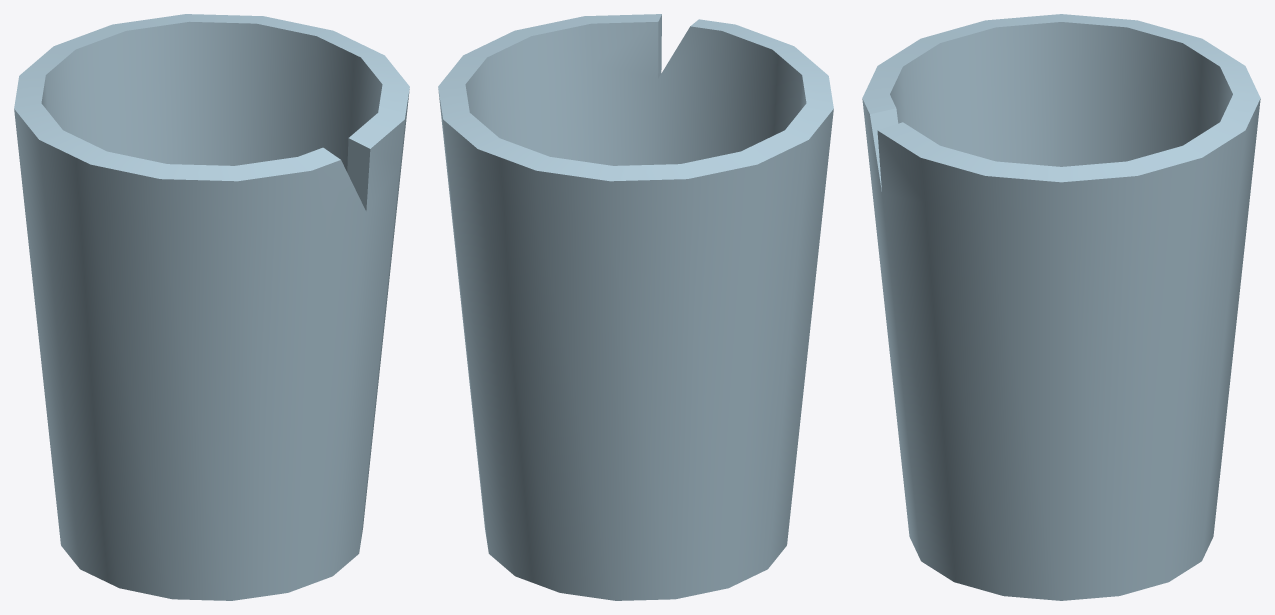
File: cupChipped.fbx
The picture shows the model from 3 angles, left to right: view 1: azimuth 30°, elevation 25°; view 2: azimuth 150°, elevation 25°; view 3: azimuth 270°, elevation 25°; orthographic projection.
Parts seen in each view (by area): view 1: Cup Chipped; view 2: Cup Chipped; view 3: Cup Chipped.
Boxes of the visible parts, <box> form: Cup Chipped: <box>14,14,409,600</box>; Cup Chipped: <box>438,14,833,600</box>; Cup Chipped: <box>862,14,1260,600</box>.
Bounding box in the file's own units: 7.75 × 7.75 × 9.5.
